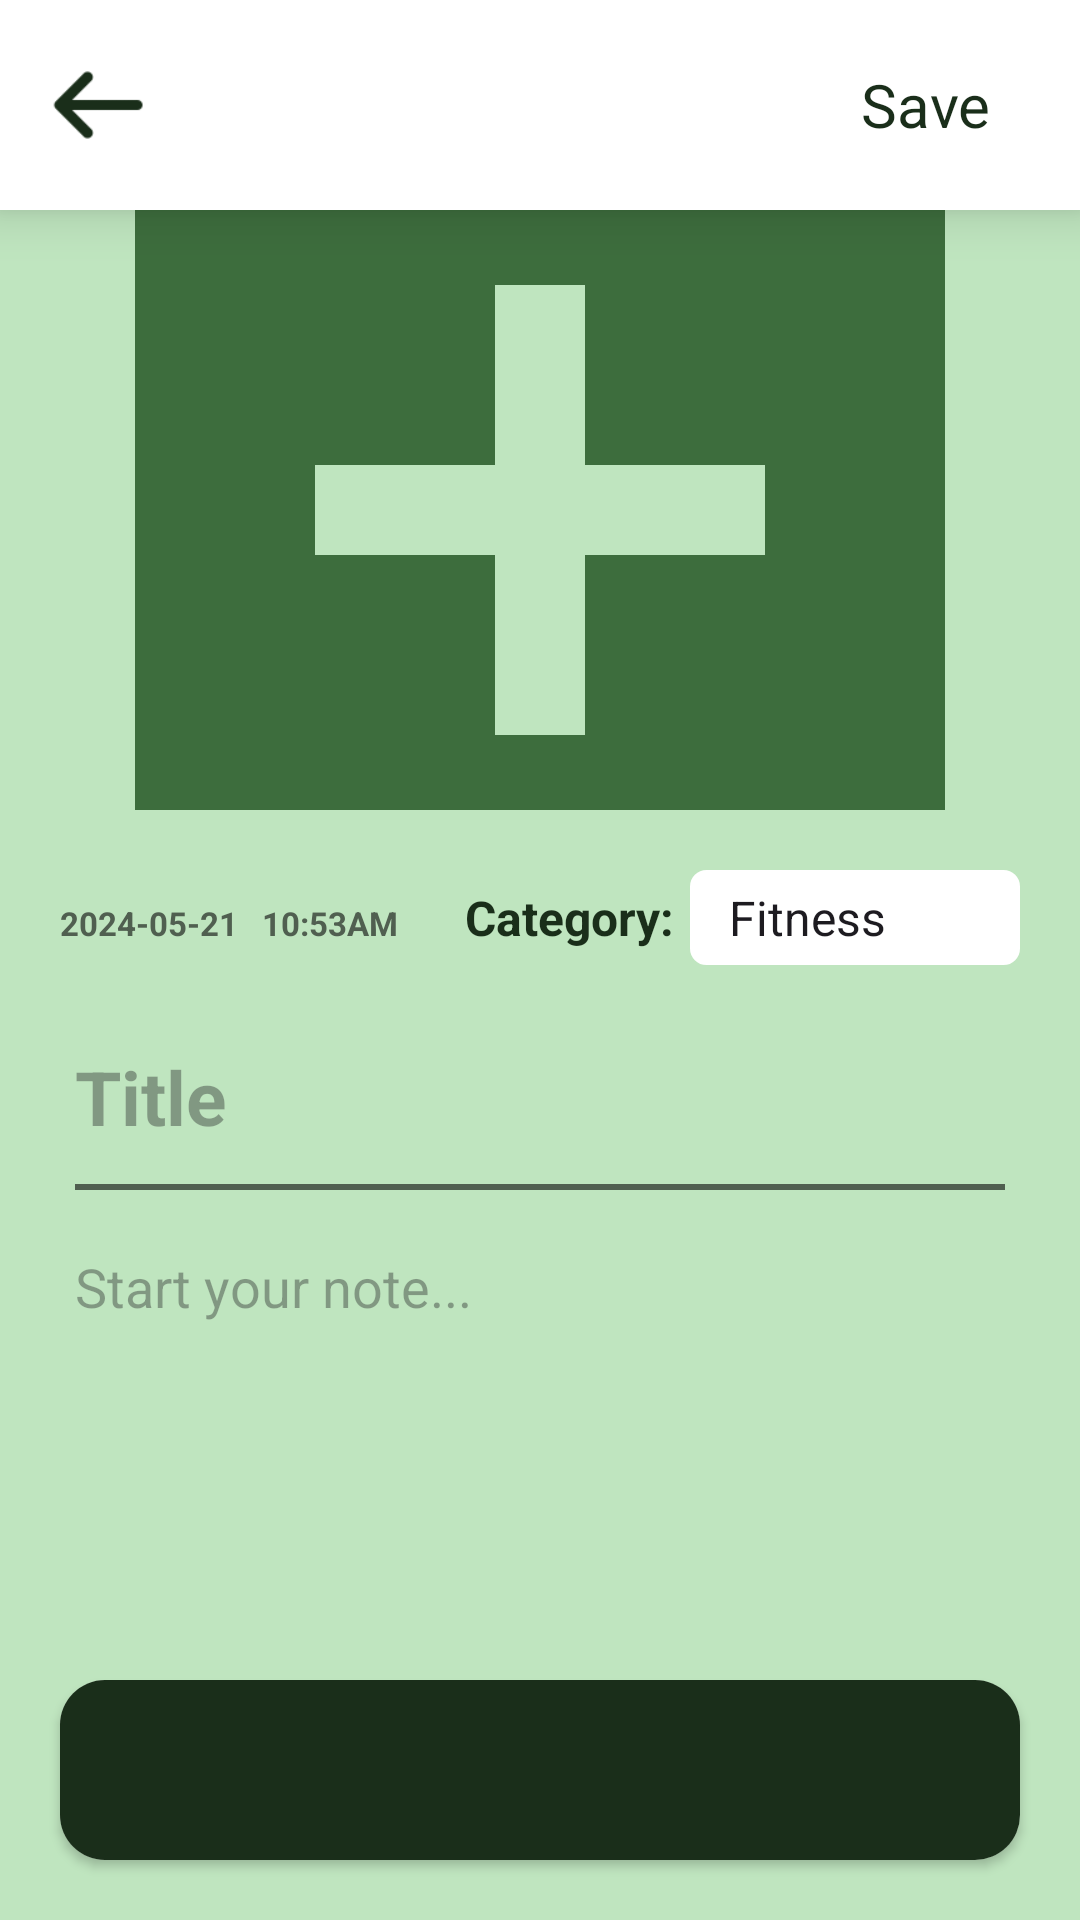

Locate icon controls on the screen. Image size 1080*1920, boxes as {"x1": x1, "y1": y1, "x2": x2, "y2": y2}.
arrow: {"x1": 53, "y1": 71, "x2": 143, "y2": 139}
